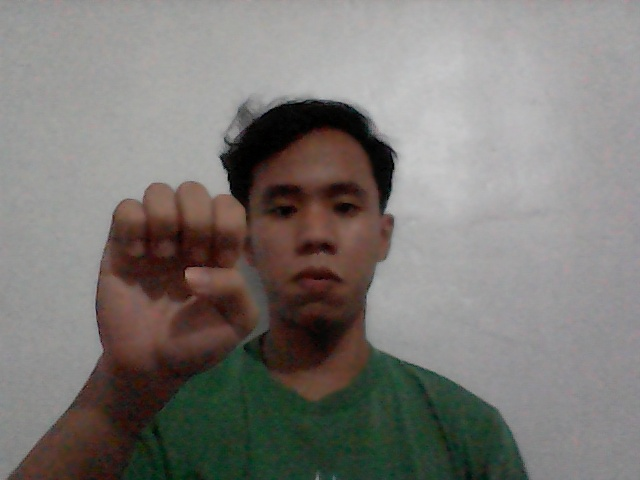E: (63, 165, 283, 399)
